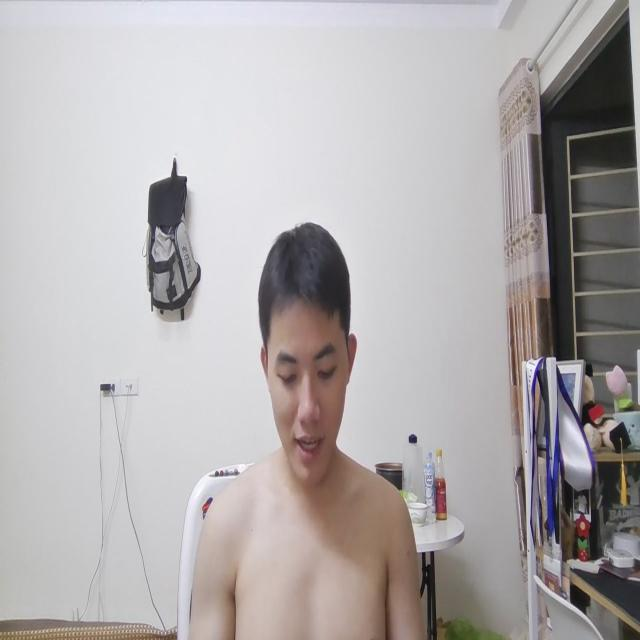student: (208, 177, 398, 640)
